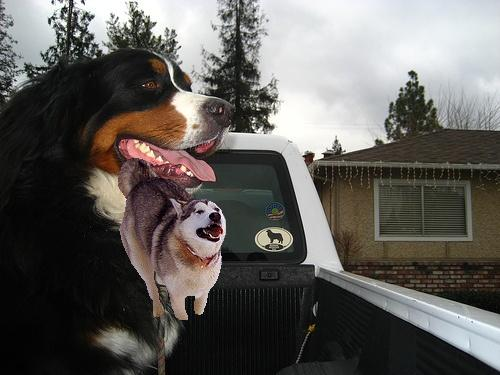tampered: (119, 159, 226, 320)
